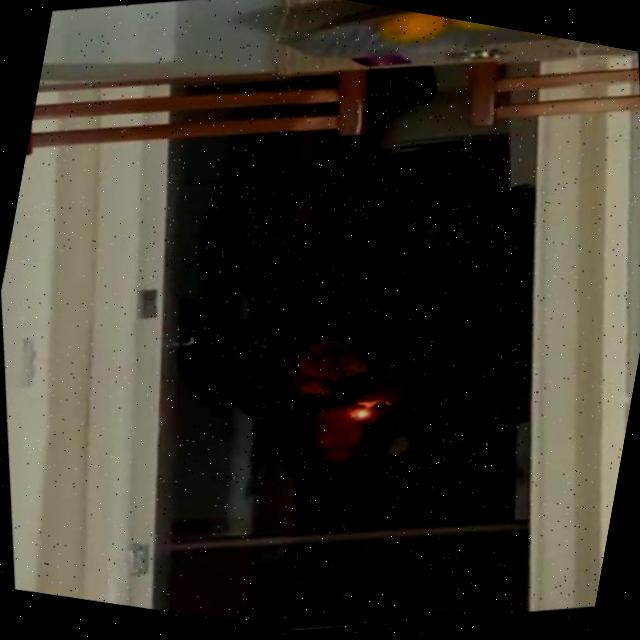fire: (339, 400, 379, 436)
